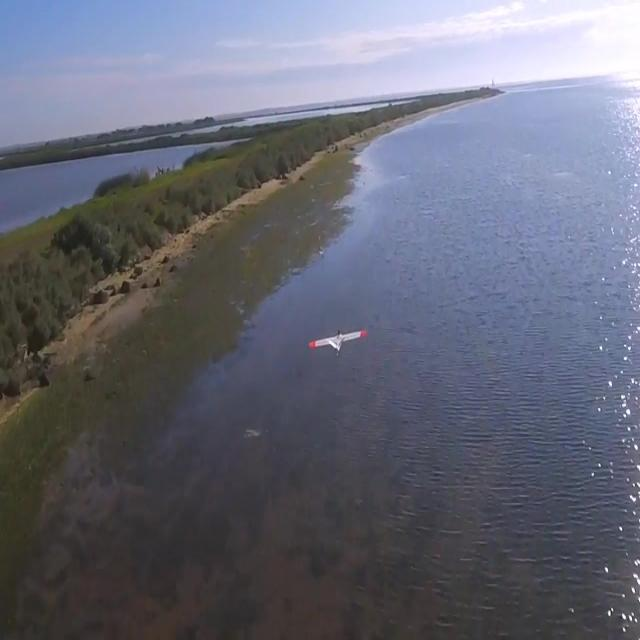iha: (308, 328, 367, 355)
